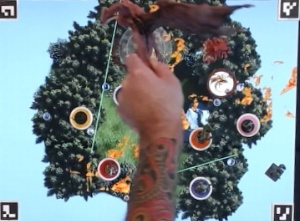orange: (189, 126, 215, 151)
pink: (237, 112, 261, 137)
red: (98, 156, 121, 181)
violet: (187, 174, 214, 200)
yellow: (67, 104, 92, 129)
